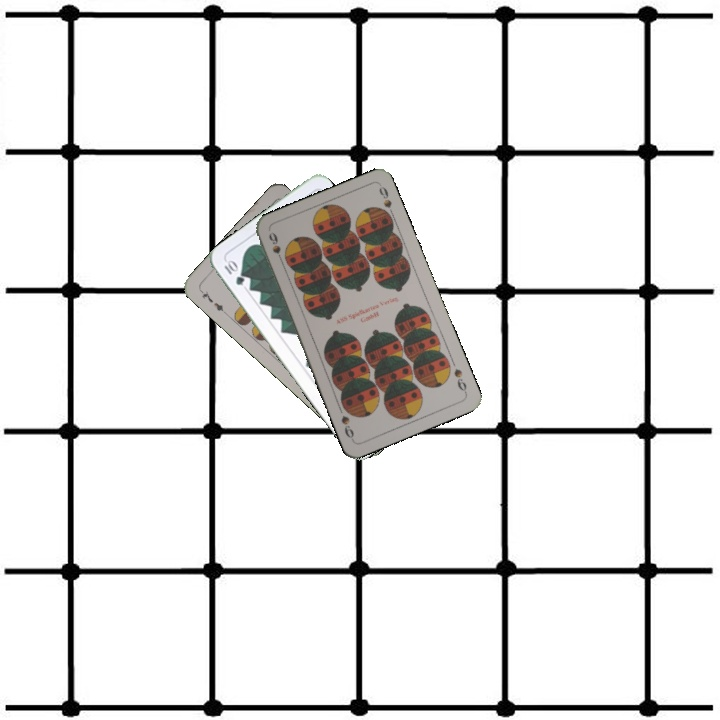E7: (196, 286, 229, 317)
G10: (220, 256, 247, 288)
S9: (265, 228, 287, 267), (450, 364, 469, 396)
